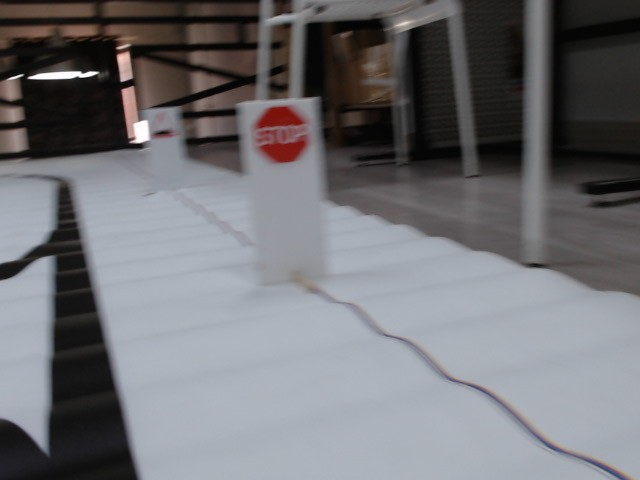Nerov: (151, 112, 179, 141)
Stop: (251, 105, 315, 161)
